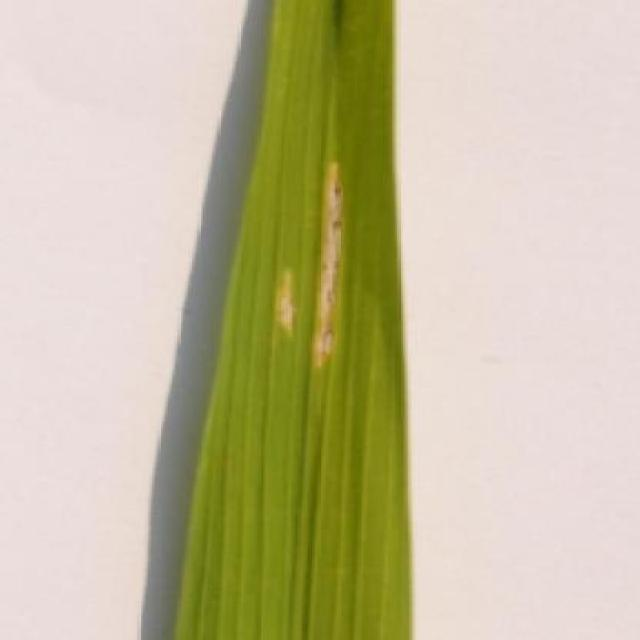Brown_Spot: (176, 0, 415, 640)
